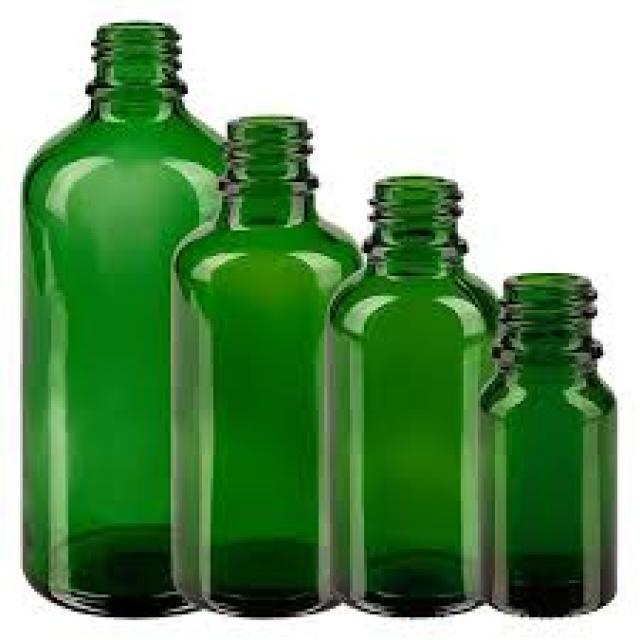glass: (23, 17, 228, 612), (168, 114, 358, 614), (321, 174, 495, 612), (475, 270, 614, 617)
